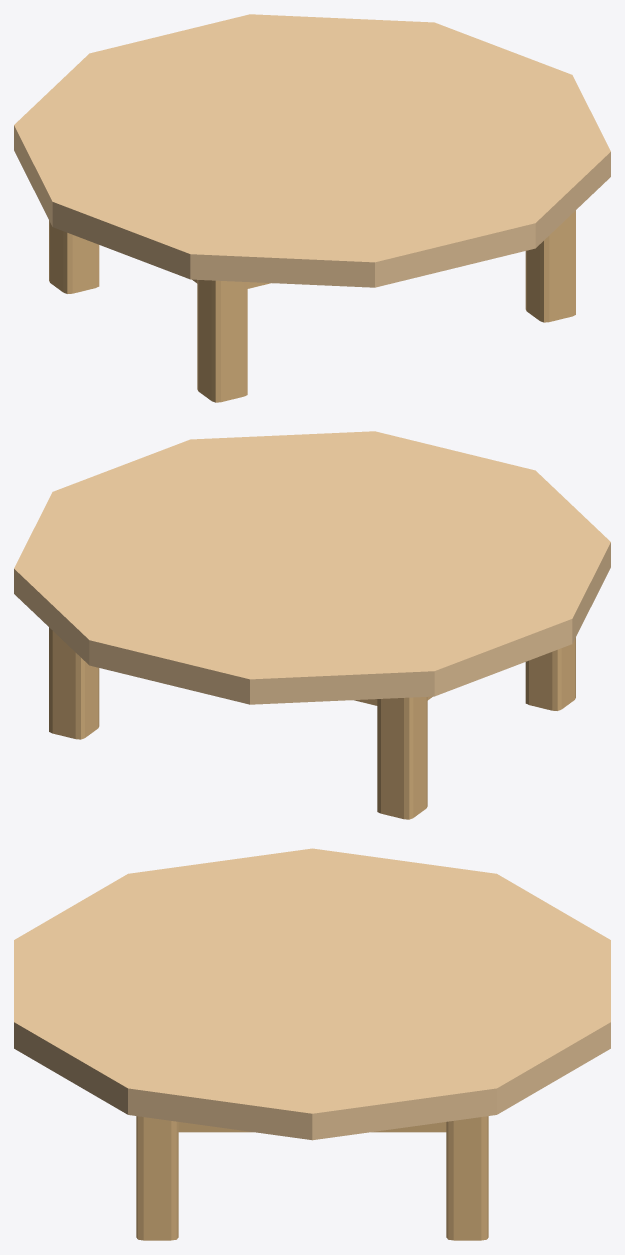
Rendered from table.fbx.
3 views of the same model, one above another, from view 1: azimuth 30°, elevation 25°; view 2: azimuth 150°, elevation 25°; view 3: azimuth 270°, elevation 25° (orthographic). The views are drawn at different scales.
Visible parts, largest first — view 1: table; view 2: table; view 3: table.
Part boxes in pixels (box(x1,y1,x2,y2)): table: box(14, 14, 610, 402); table: box(14, 431, 610, 819); table: box(14, 848, 610, 1240).
Size of the model in its own units: 59.63 by 17.47 by 56.71.
Materials: 1 (1 with a texture image).
